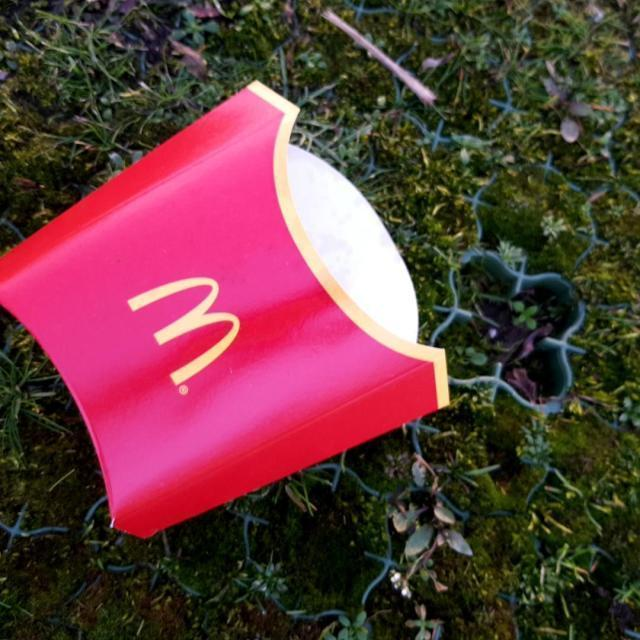Paper: (1, 74, 453, 540)
